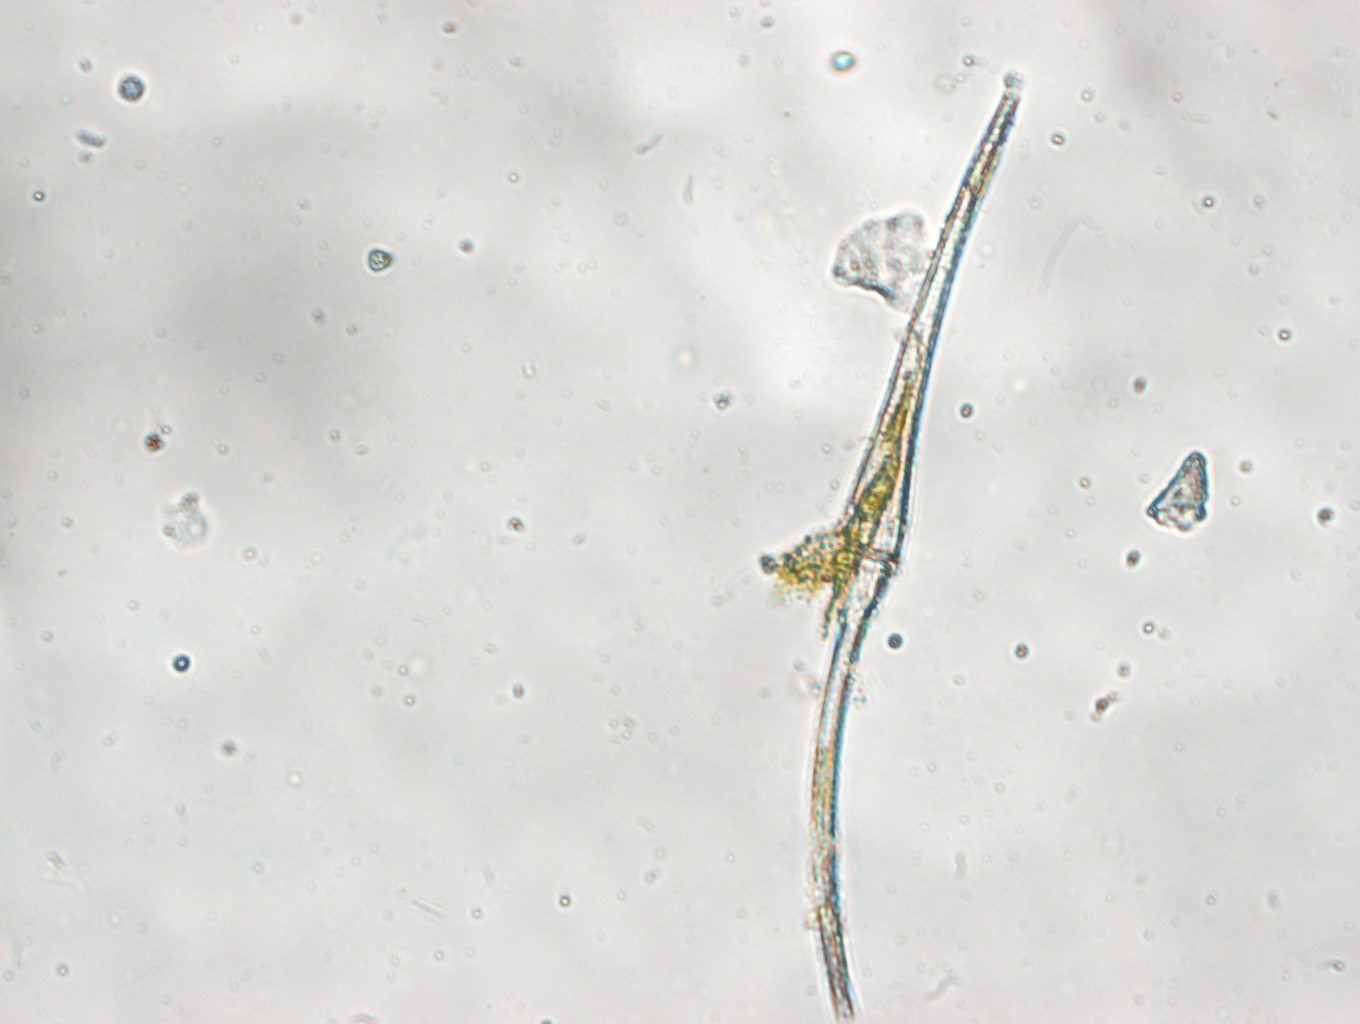ceratium fusus: (761, 73, 1026, 1024)
